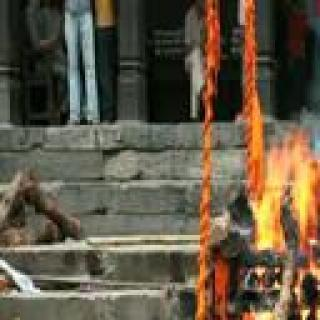fire: (254, 118, 320, 320)
